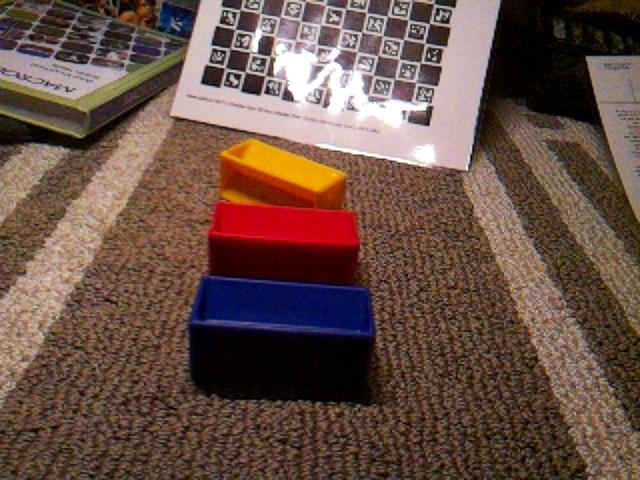blue: (187, 273, 377, 401)
red: (206, 199, 362, 285)
yellow: (218, 137, 349, 210)
